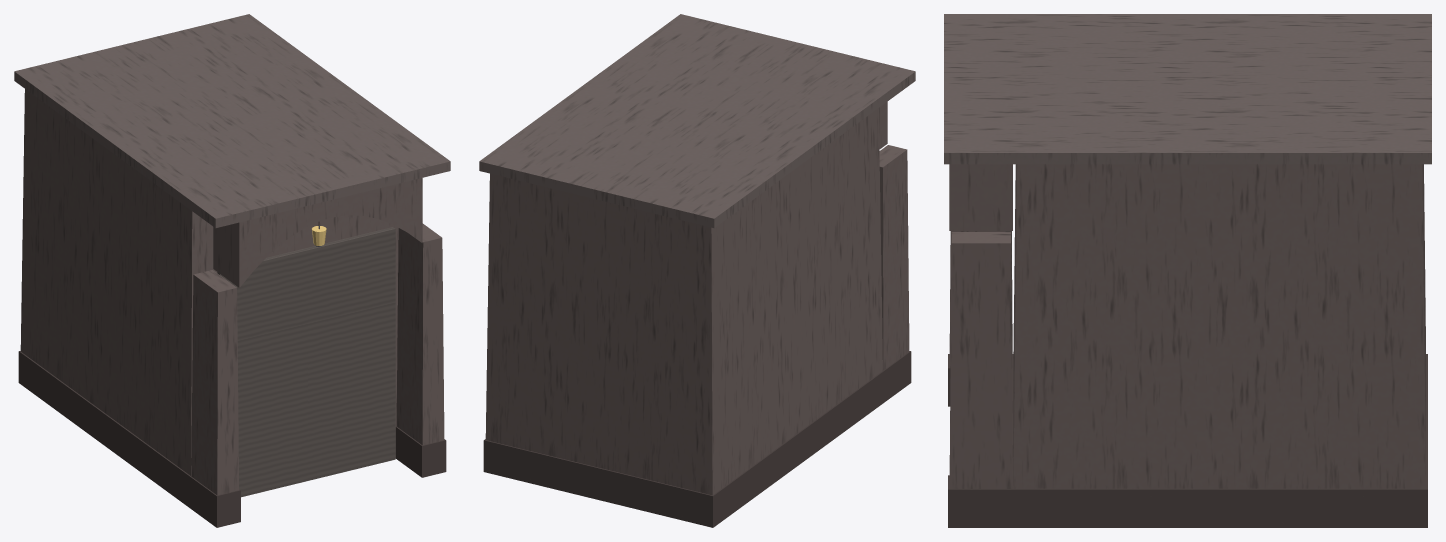
Rendered from SM_Souq_Stall_W3D45H38.fbx.
The picture shows the model from 3 angles, left to right: view 1: azimuth 30°, elevation 25°; view 2: azimuth 150°, elevation 25°; view 3: azimuth 270°, elevation 25°; orthographic projection. The views are drawn at different scales.
Visible parts, largest first — view 1: SM_Souq_Stall_W3D45H38; view 2: SM_Souq_Stall_W3D45H38; view 3: SM_Souq_Stall_W3D45H38.
Part boxes in pixels (x1=…): SM_Souq_Stall_W3D45H38: x1=14, y1=14, x2=450, y2=527; SM_Souq_Stall_W3D45H38: x1=479, y1=14, x2=915, y2=527; SM_Souq_Stall_W3D45H38: x1=944, y1=14, x2=1431, y2=527.
Size of the model in its own units: 310 by 392 by 460.
Materials: 6 (6 with a texture image).
